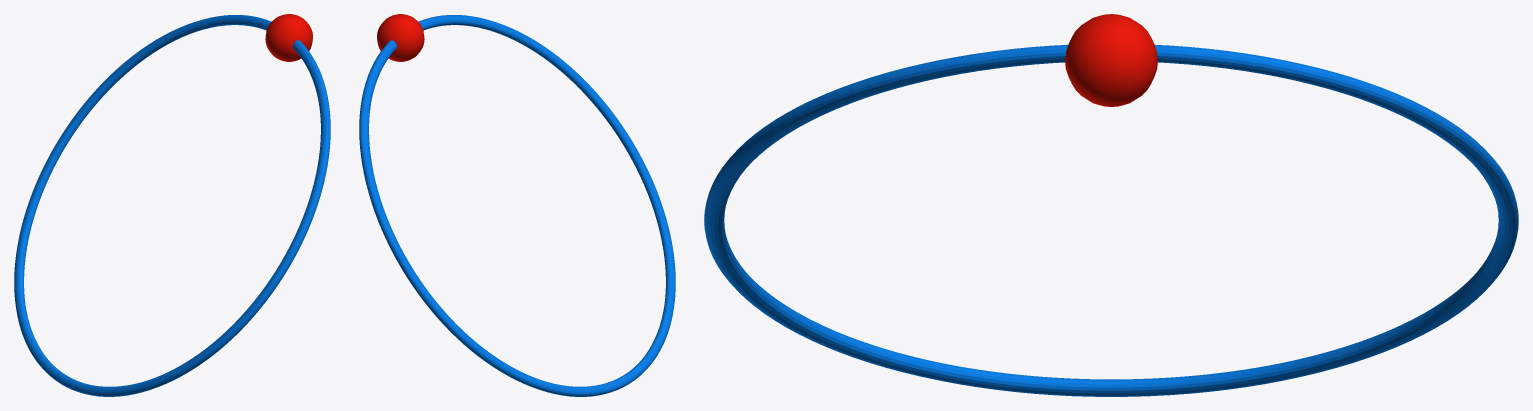
File: pole2.fbx
The picture shows the model from 3 angles, left to right: view 1: azimuth 30°, elevation 25°; view 2: azimuth 150°, elevation 25°; view 3: azimuth 270°, elevation 25°; orthographic projection. The views are drawn at different scales.
Parts seen in each view (by area): view 1: pole2; view 2: pole2; view 3: pole2.
Boxes of the visible parts, left/top/right/bottom form: pole2: left=14, top=14, right=330, bottom=396; pole2: left=359, top=14, right=675, bottom=396; pole2: left=704, top=14, right=1518, bottom=396.
Size of the model in its own units: 209 by 240 by 297.
